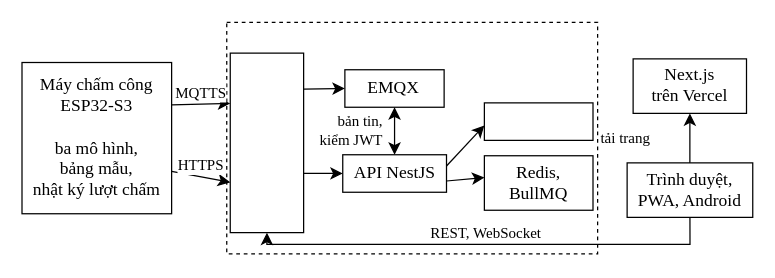
Some shapes in this 775 by 278 pixel diagram are drawn without their labels. The box of each missing label's shape, as (x1, y1, x2, y2) in pixels:
PostgreSQL: (483, 102, 593, 140)
Traefik: (229, 52, 304, 233)
VPS, Docker Compose: (226, 21, 598, 254)
